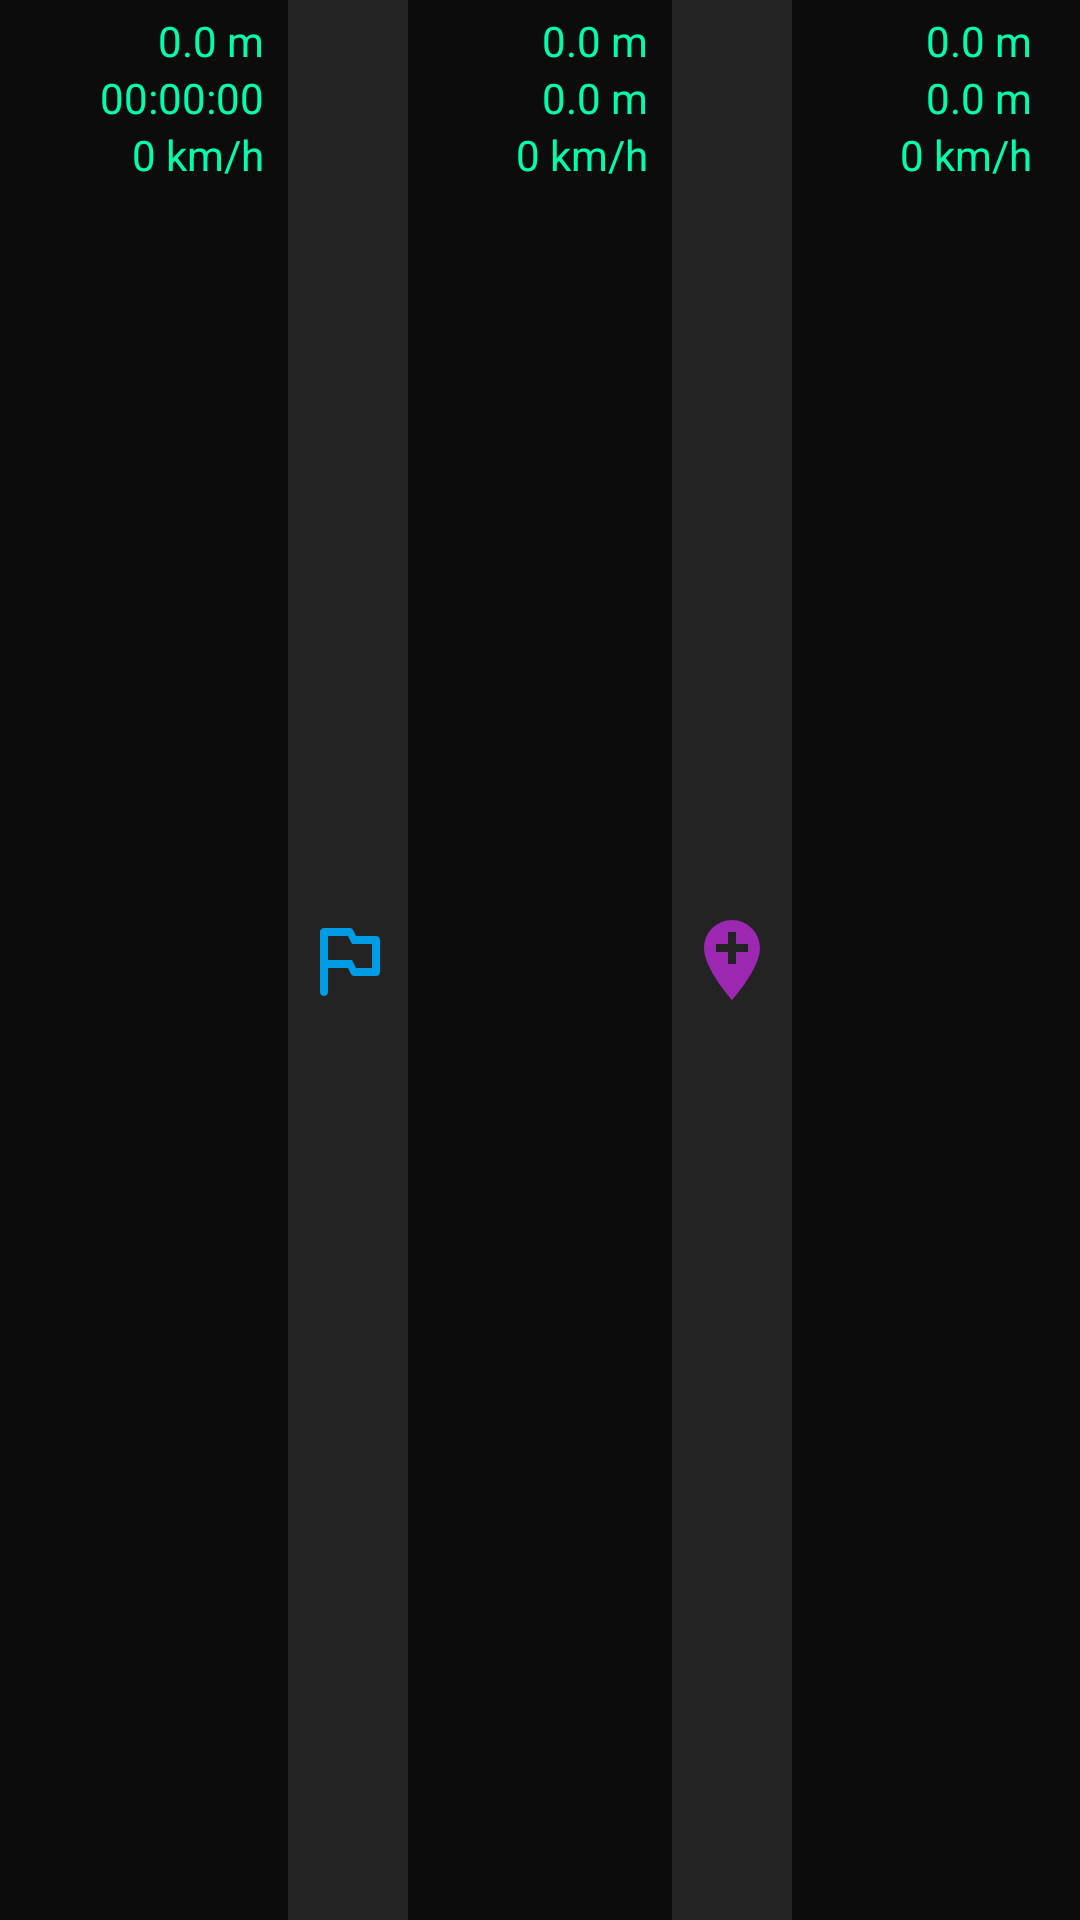

Icon click points for this 1080px×1920px phone screenshot, format (x,y):
Add WP: (732,960)
